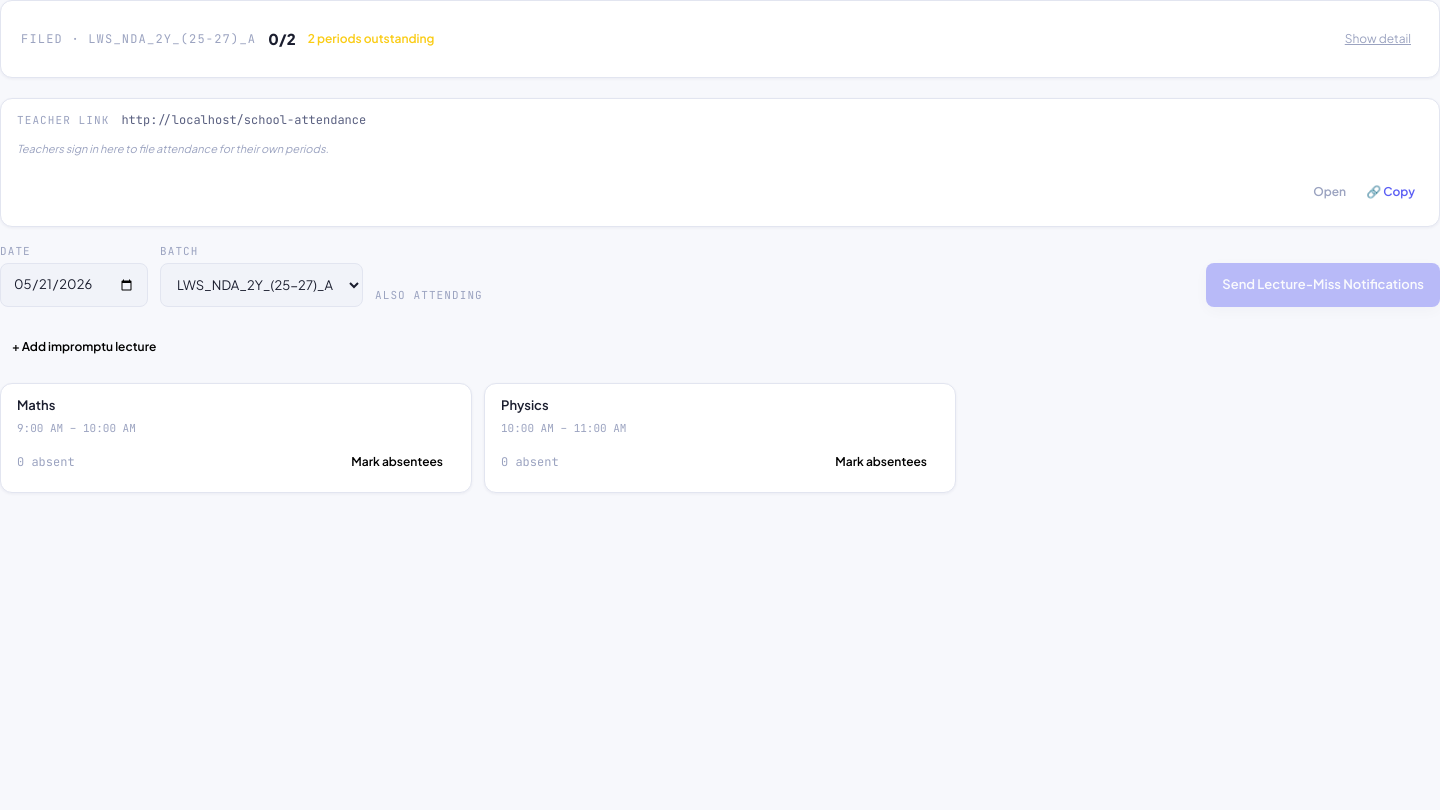
LectureLogTab — marking flow › updates the card count after save
The image size is (1440, 810).
# Save 1 absentee for Maths
Click the 1st button "Mark absentees" at x=397, y=462, box [339,444,455,480]
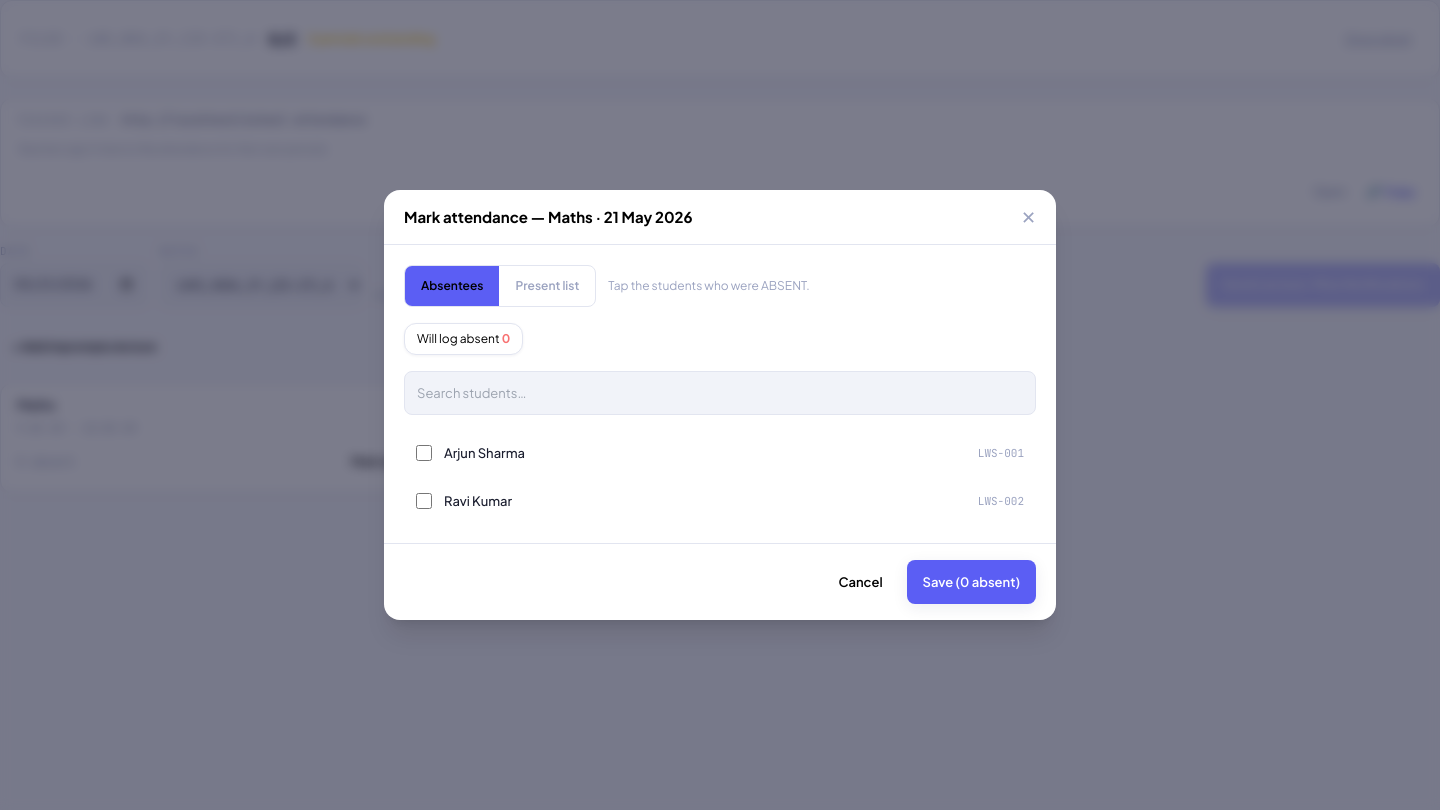
Click the checkbox labelled "Arjun Sharma LWS-001" at x=424, y=453, box [416,445,432,461]
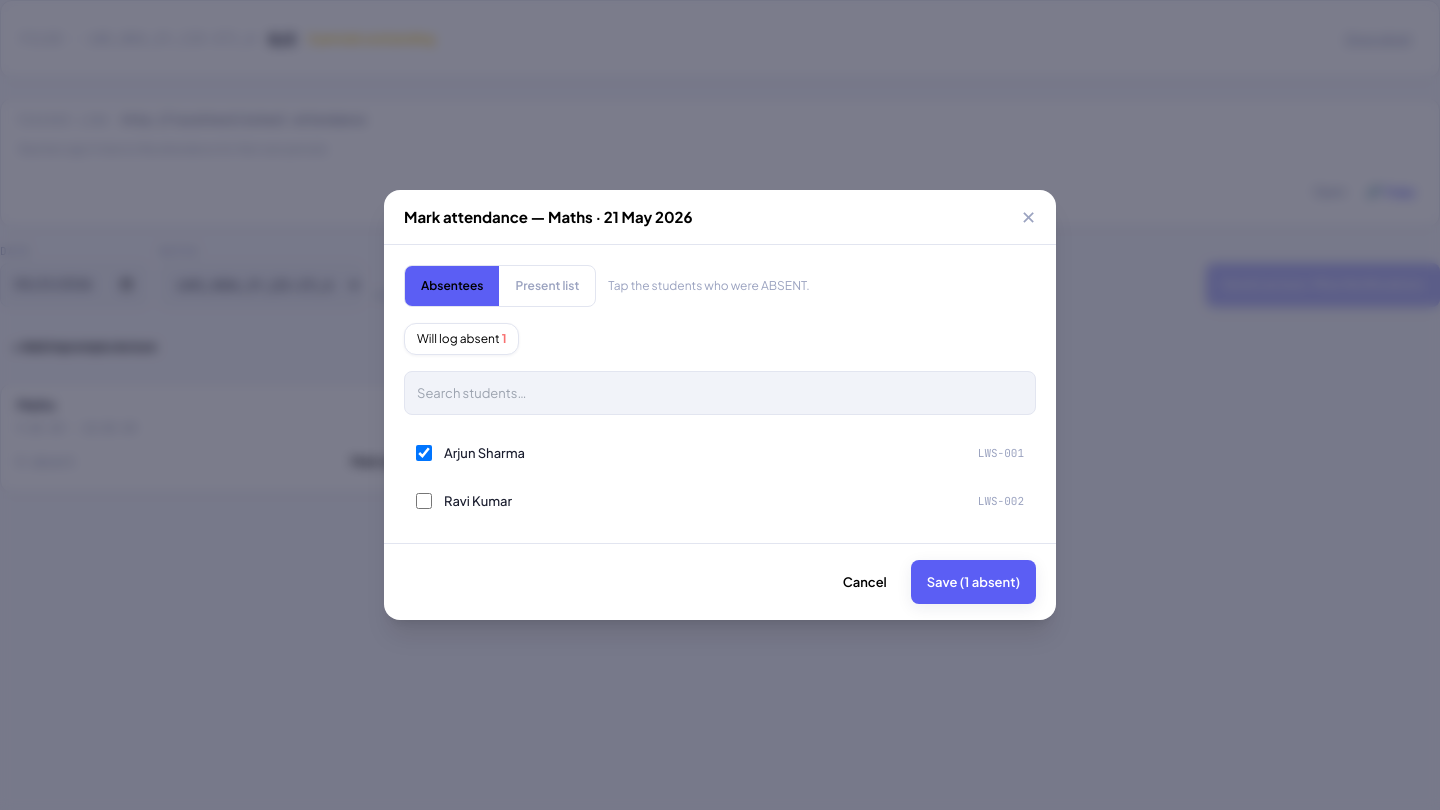
Click the button "Save (1 absent)" at x=973, y=582, box [911,560,1036,604]
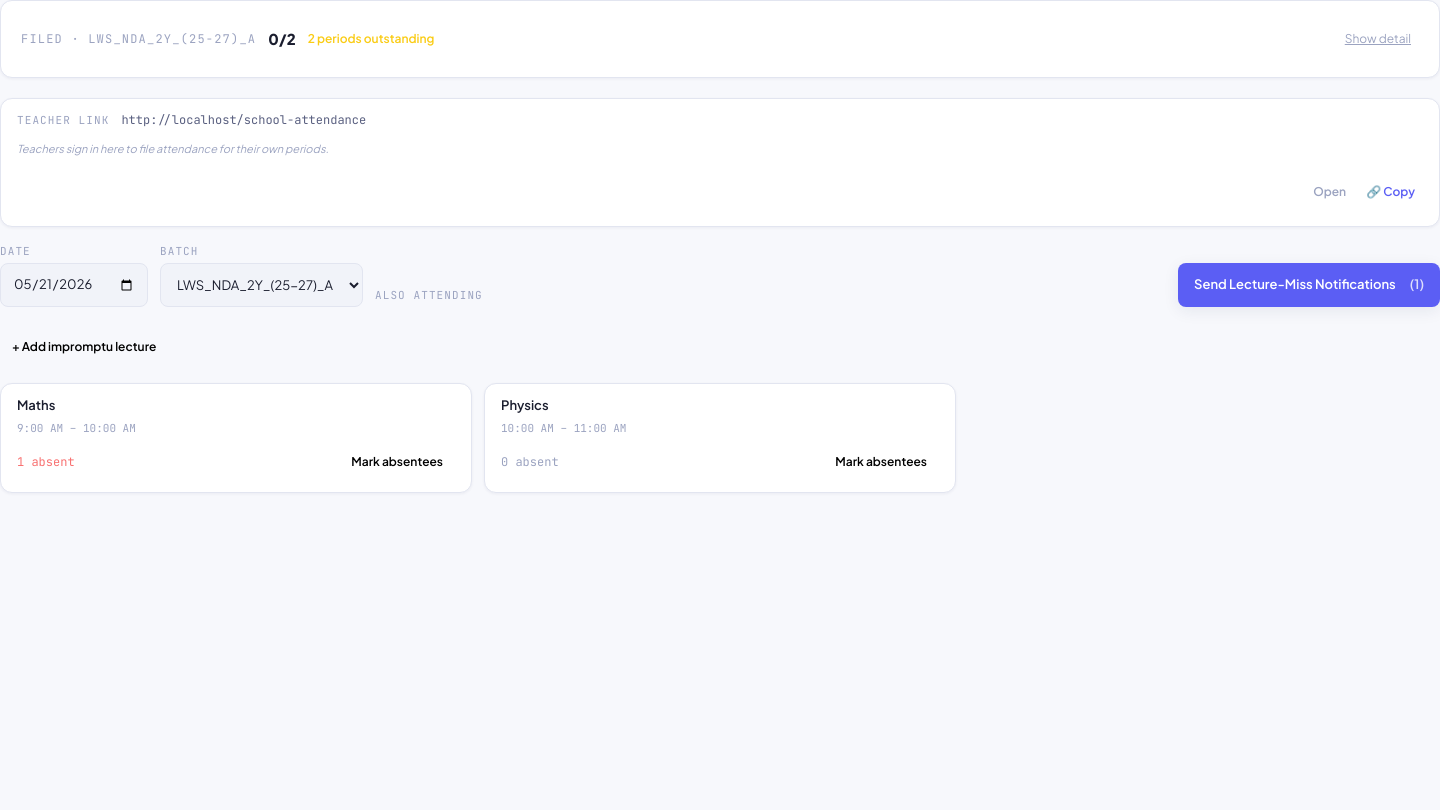
Expected: the text "1 absent" is shown, [17,453,75,471]
